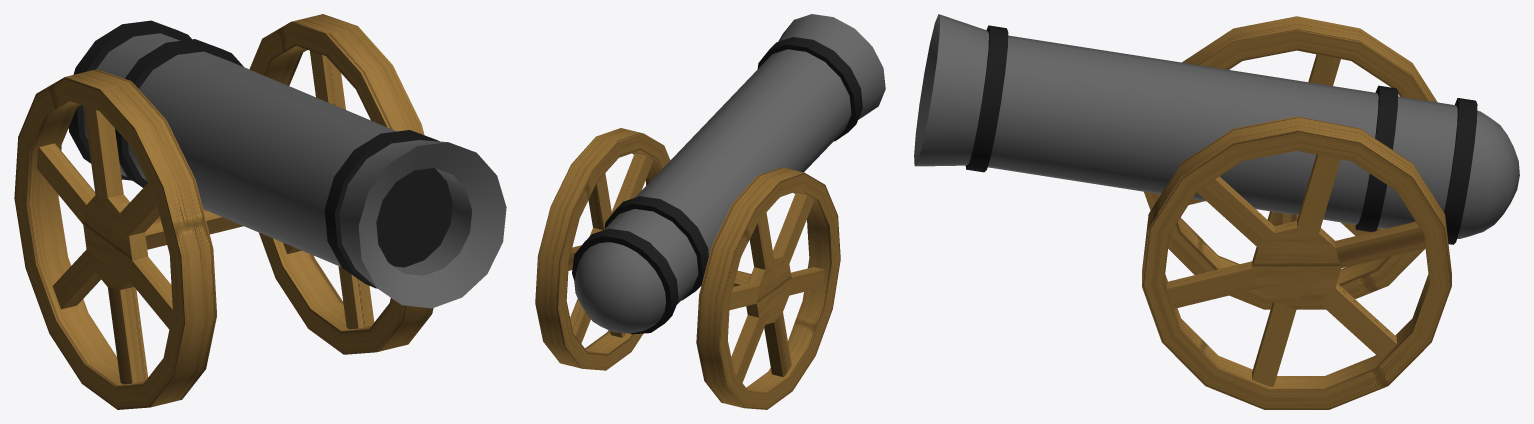
File: cannonv1_model.fbx
The picture shows the model from 3 angles, left to right: view 1: azimuth 30°, elevation 25°; view 2: azimuth 150°, elevation 25°; view 3: azimuth 270°, elevation 25°; orthographic projection. The views are drawn at different scales.
Visible parts, largest first — view 1: polySurface12, polySurface17; view 2: polySurface17, polySurface12; view 3: polySurface17, polySurface12.
Boxes of the visible parts, x1,y1,x2,y2 form: polySurface12: (14, 14, 433, 409); polySurface17: (68, 20, 506, 308); polySurface17: (572, 14, 885, 334); polySurface12: (535, 128, 840, 409); polySurface17: (914, 14, 1519, 244); polySurface12: (1142, 16, 1451, 409).
Size of the model in its own units: 8.07 by 10.9 by 18.06.
